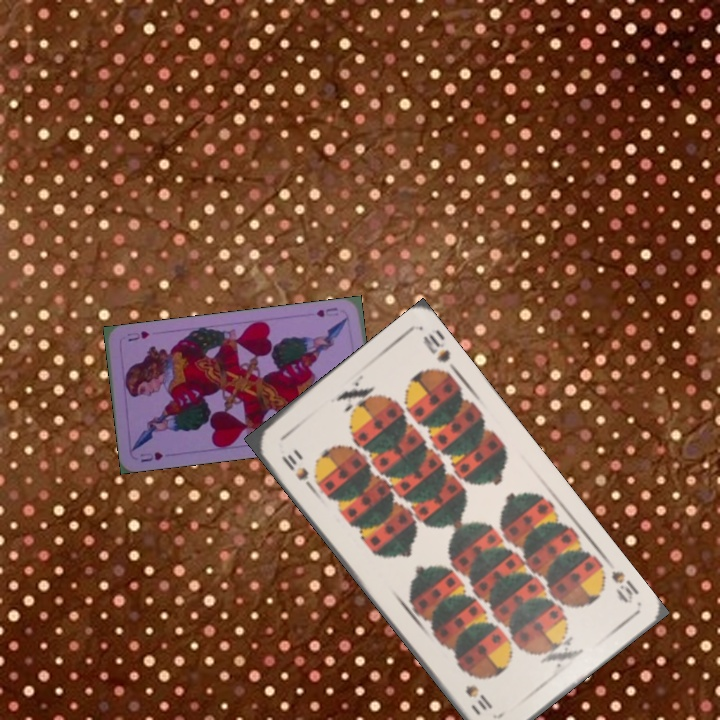HU: (136, 448, 166, 465), (312, 304, 341, 320)
S10: (600, 554, 642, 607), (277, 450, 316, 492)
